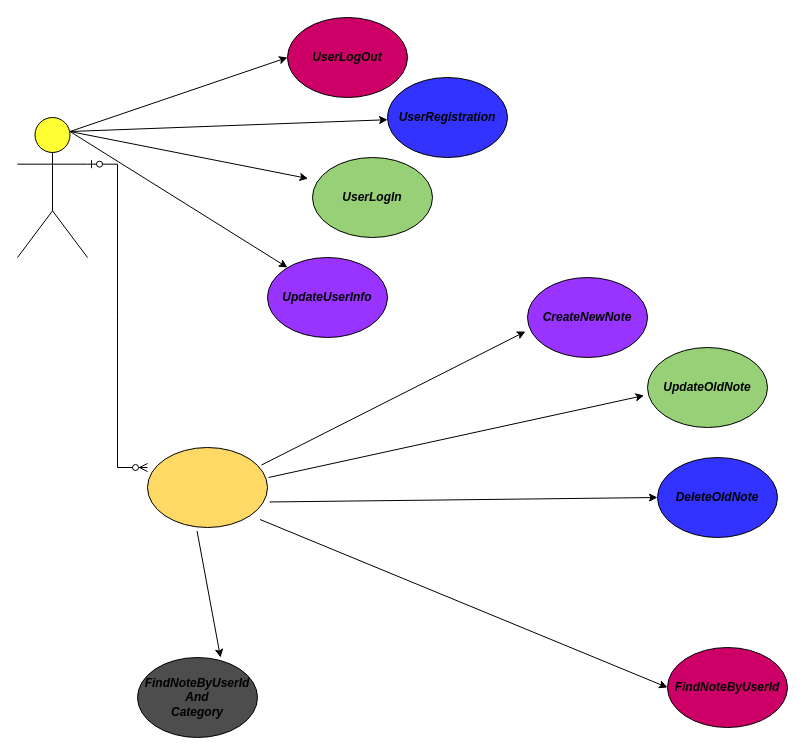
Image size: 805x755. Some labels were removed from this diagram. The shapes that lost their labels are listed below. From the top down, each one's box as (x1, y1, x2, y2) in pixels, then its label:
(16, 116, 88, 258): User
(146, 446, 268, 528): NotePad
